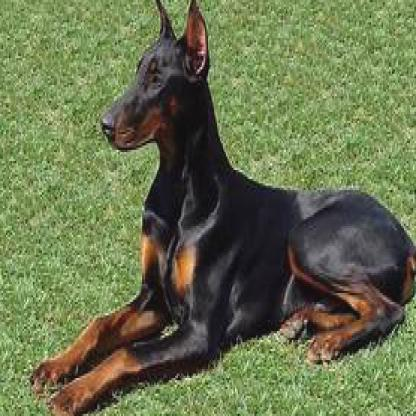dog: (30, 0, 414, 414)
